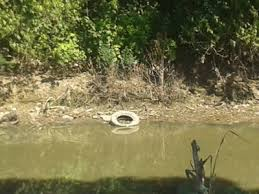tire: (110, 111, 141, 131)
